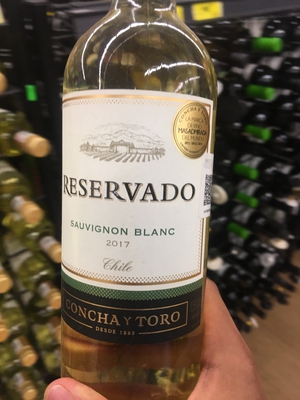reservado sauvignon blanc: (48, 14, 211, 400)
